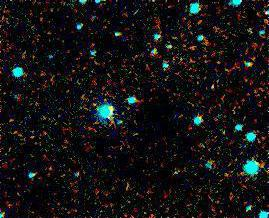star: (98, 96, 128, 126)
